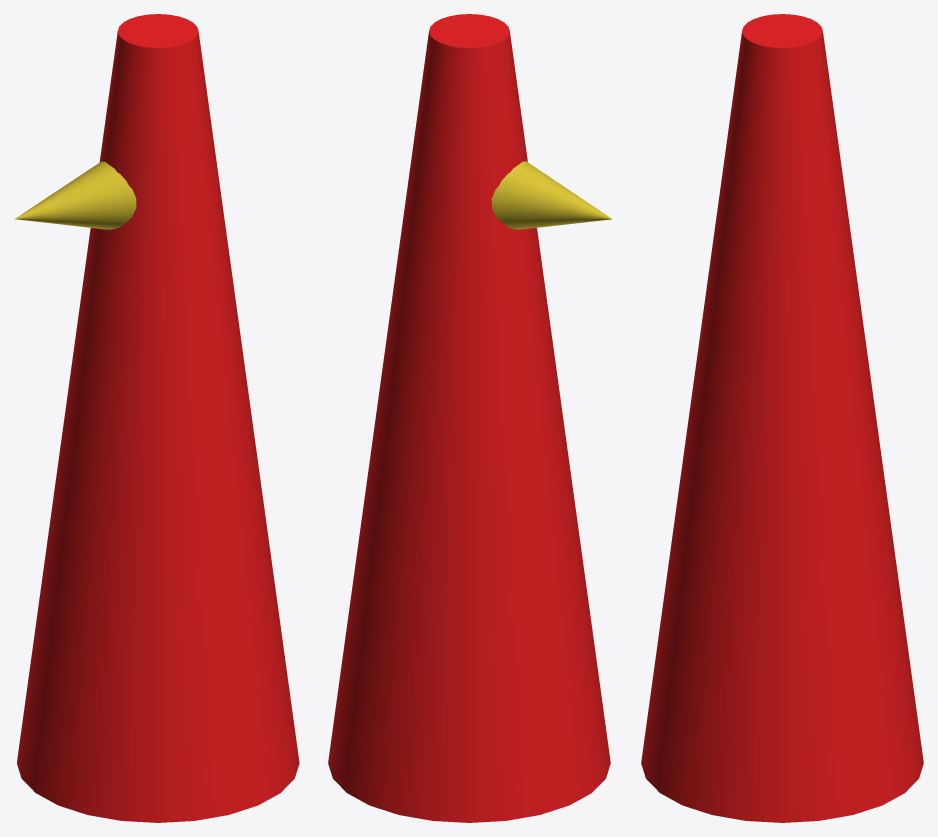
Rendered from Skin_red_4.fbx.
3 views of the same model, side by side, from view 1: azimuth 30°, elevation 25°; view 2: azimuth 150°, elevation 25°; view 3: azimuth 270°, elevation 25° (orthographic).
Parts seen in each view (by area): view 1: Cone001, Cone003; view 2: Cone001, Cone003; view 3: Cone001.
Part boxes in pixels (bbox=[...]): Cone001: bbox=[17, 14, 299, 822]; Cone003: bbox=[14, 161, 136, 229]; Cone001: bbox=[328, 14, 610, 822]; Cone003: bbox=[491, 161, 612, 229]; Cone001: bbox=[641, 14, 923, 822].
Bounding box in the file's own units: 28.3 × 74.42 × 26.05.
